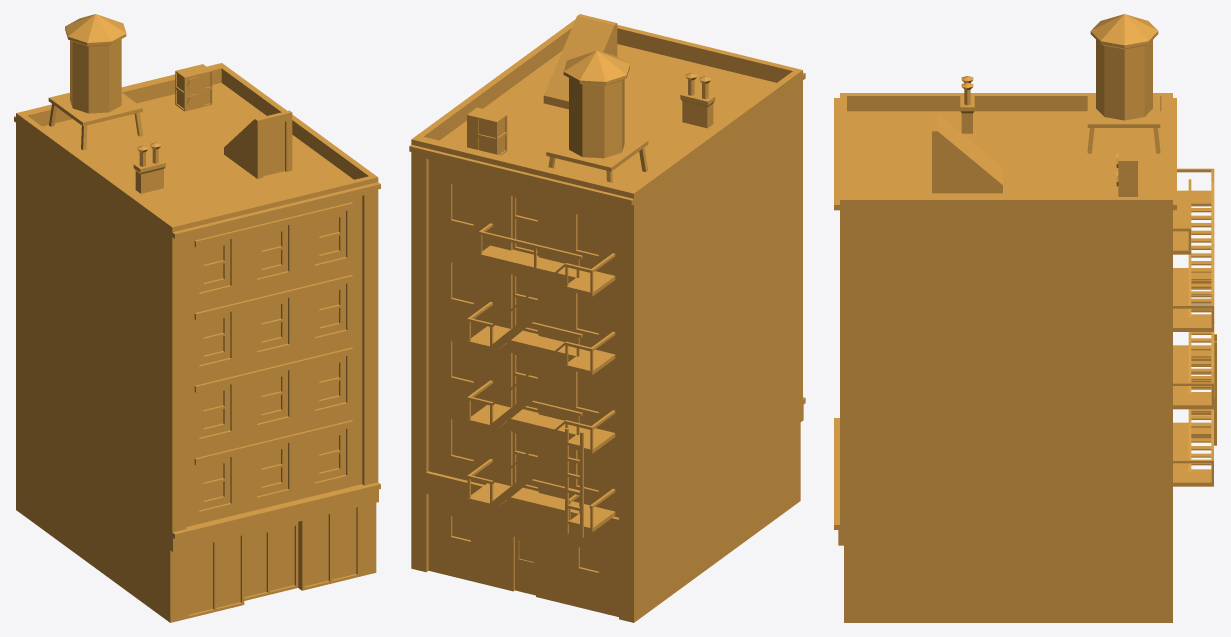
The model's file is building-block-4floor-short.fbx.
3 renders of one model, left to right at view 1: azimuth 30°, elevation 25°; view 2: azimuth 150°, elevation 25°; view 3: azimuth 270°, elevation 25°, orthographic. The views are drawn at different scales.
Parts seen in each view (by area): view 1: building-block-4floor-short; view 2: building-block-4floor-short; view 3: building-block-4floor-short.
Boxes of the visible parts, x1,y1,x2,y2 form: building-block-4floor-short: [14, 14, 380, 622]; building-block-4floor-short: [409, 14, 805, 622]; building-block-4floor-short: [834, 14, 1216, 622].
Bounding box in the file's own units: 8.9 × 20.61 × 13.45.
